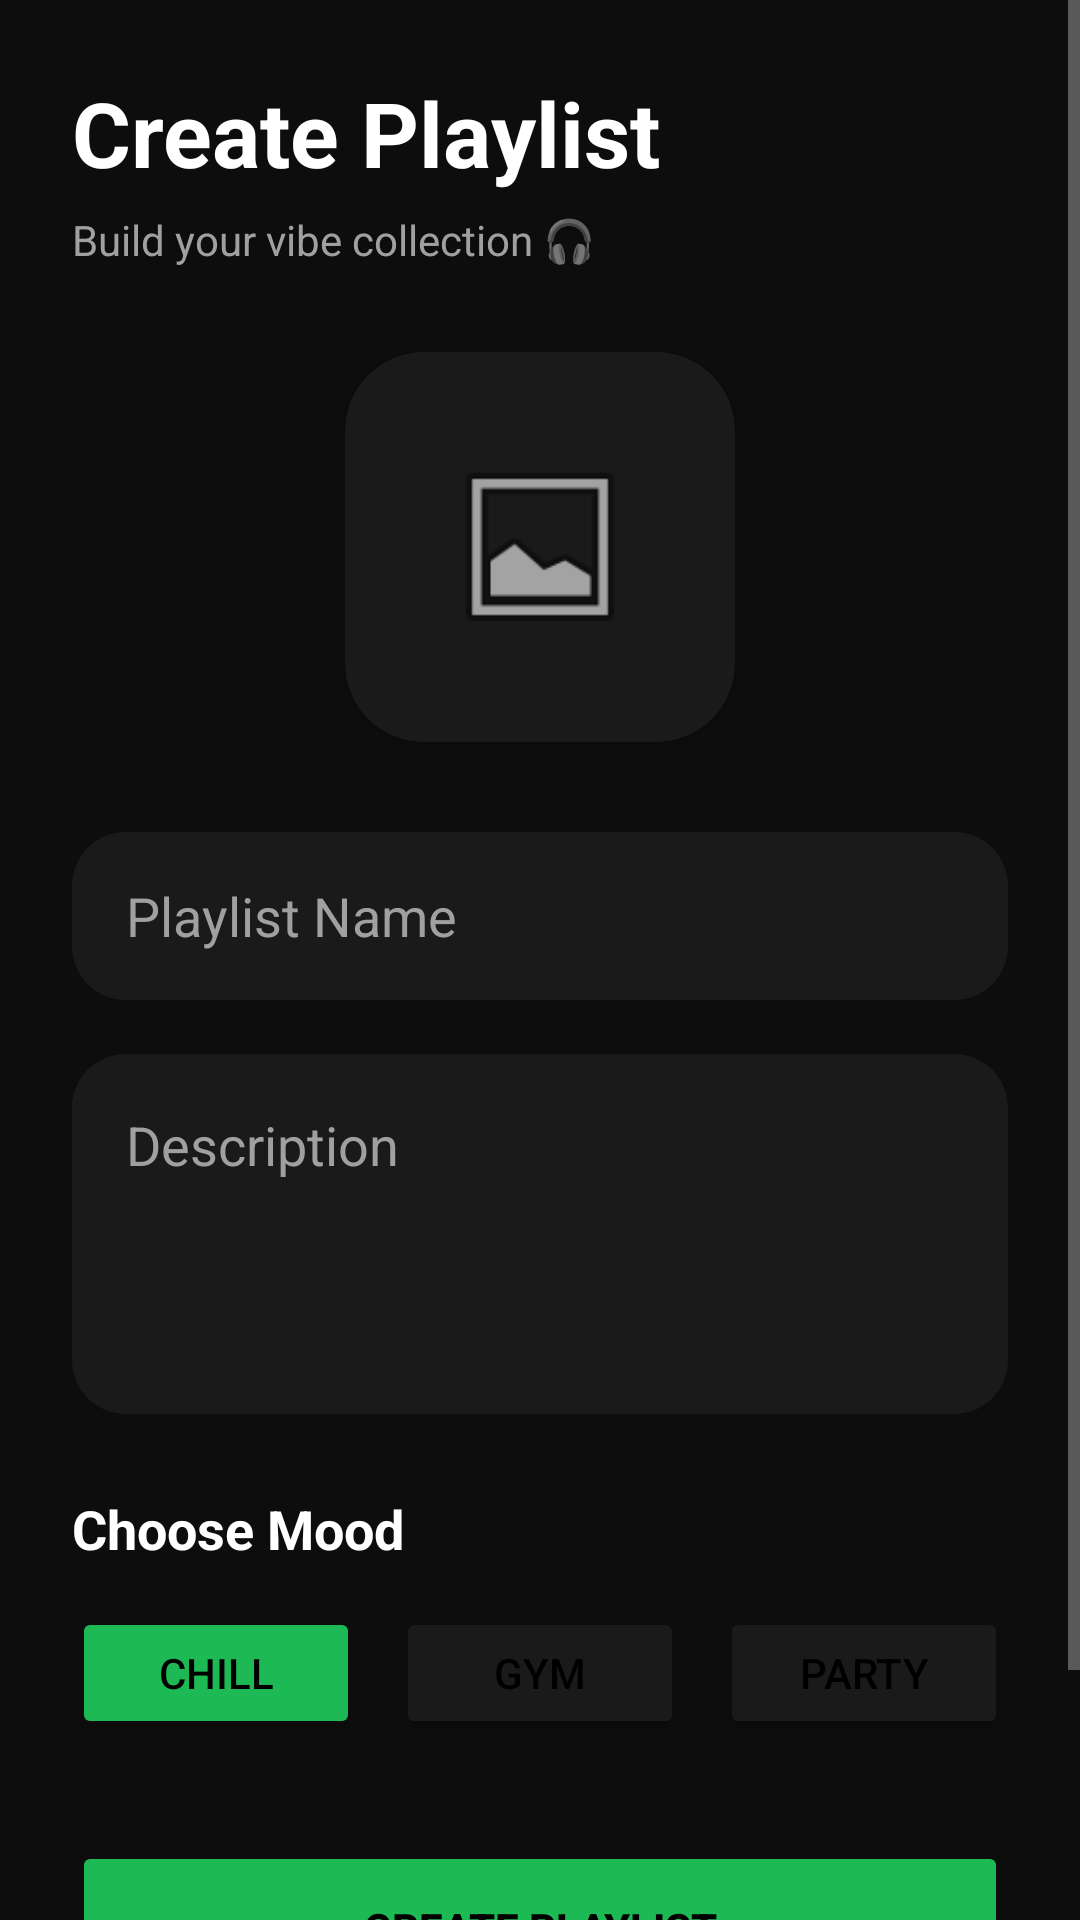

Icon click points for this 1080px x 1920px phone screenshot, format (x,y):
gallery: (540,547)
